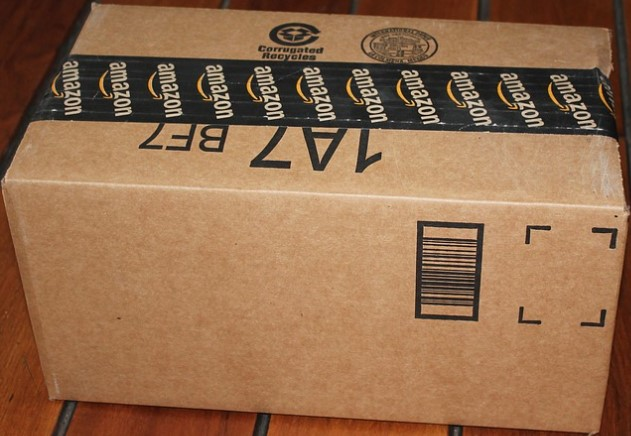stock: (5, 4, 628, 435)
